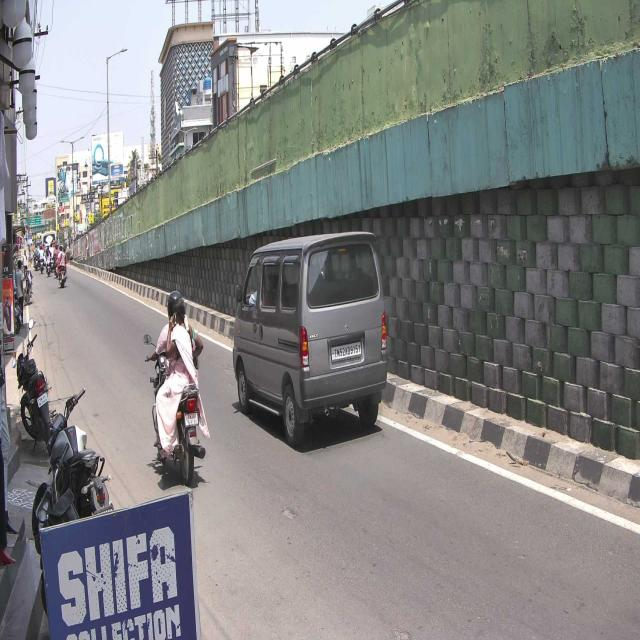double_rider: (144, 286, 208, 486)
